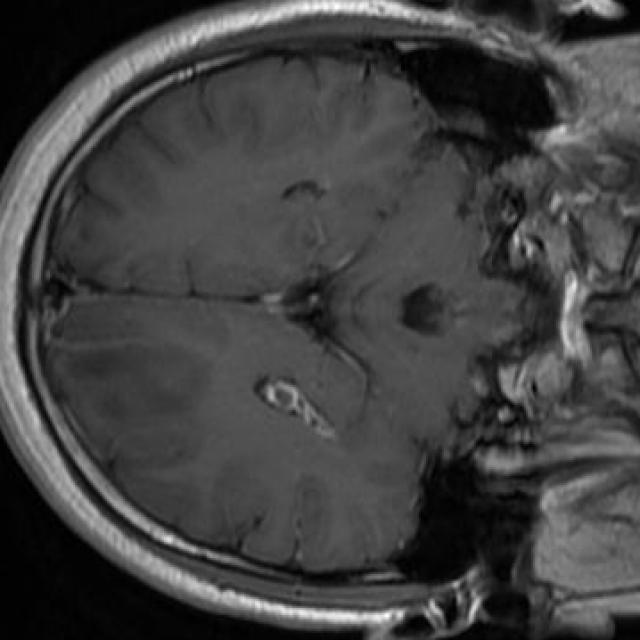glioma: (59, 298, 228, 414)
